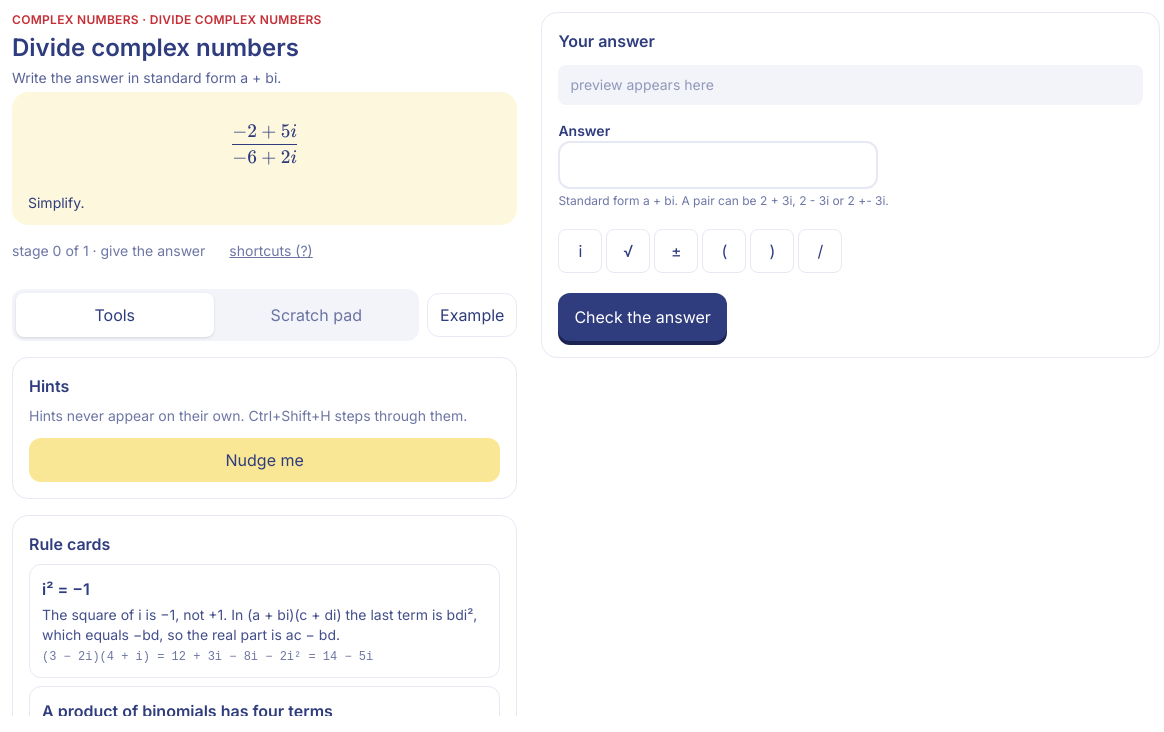
Test case: ComplexNumsFlow cx.divide › an unreadable answer records nothing
The image size is (1164, 732).
Click the button "Check the answer" at (643, 317), box [558,293,727,341]
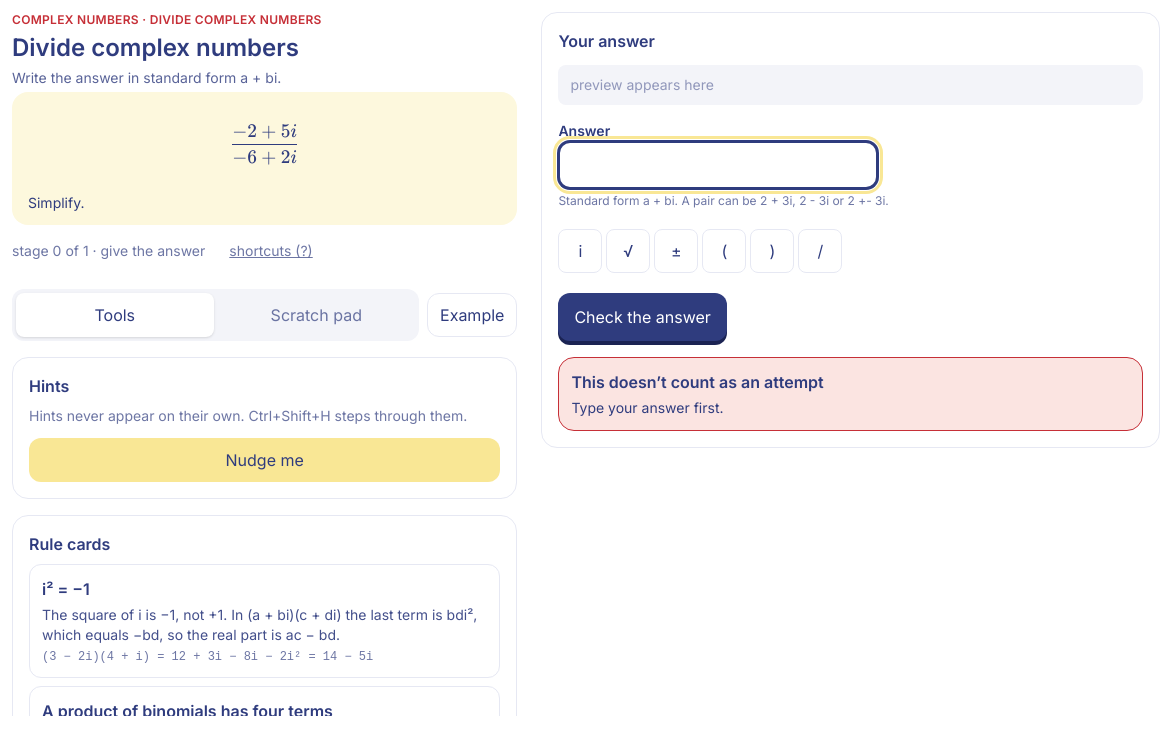
Now the message shows "This doesn’t count as an attempt", box [571,372,824,392]
Type "???" into the field labelled "Answer" at (718, 165), box [558,141,878,189]
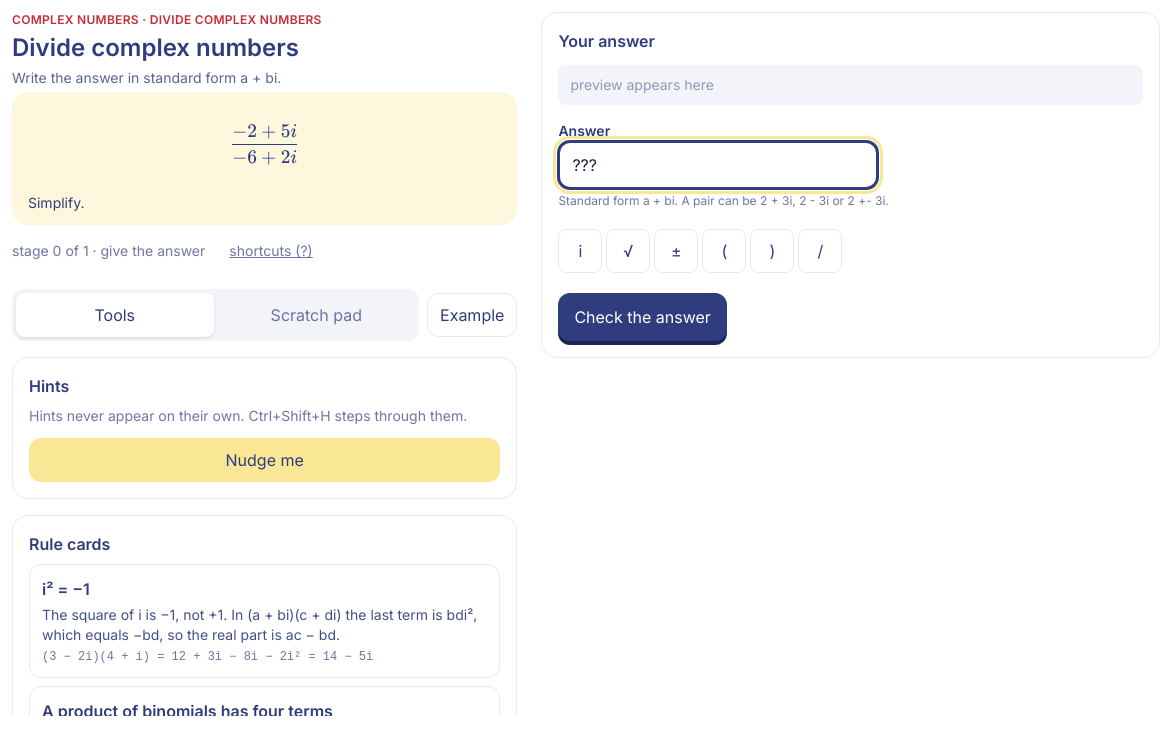
Now the message "This doesn’t count as an attempt Type your answer first." is gone
Click the button "Check the answer" at (643, 317), box [558,293,727,341]
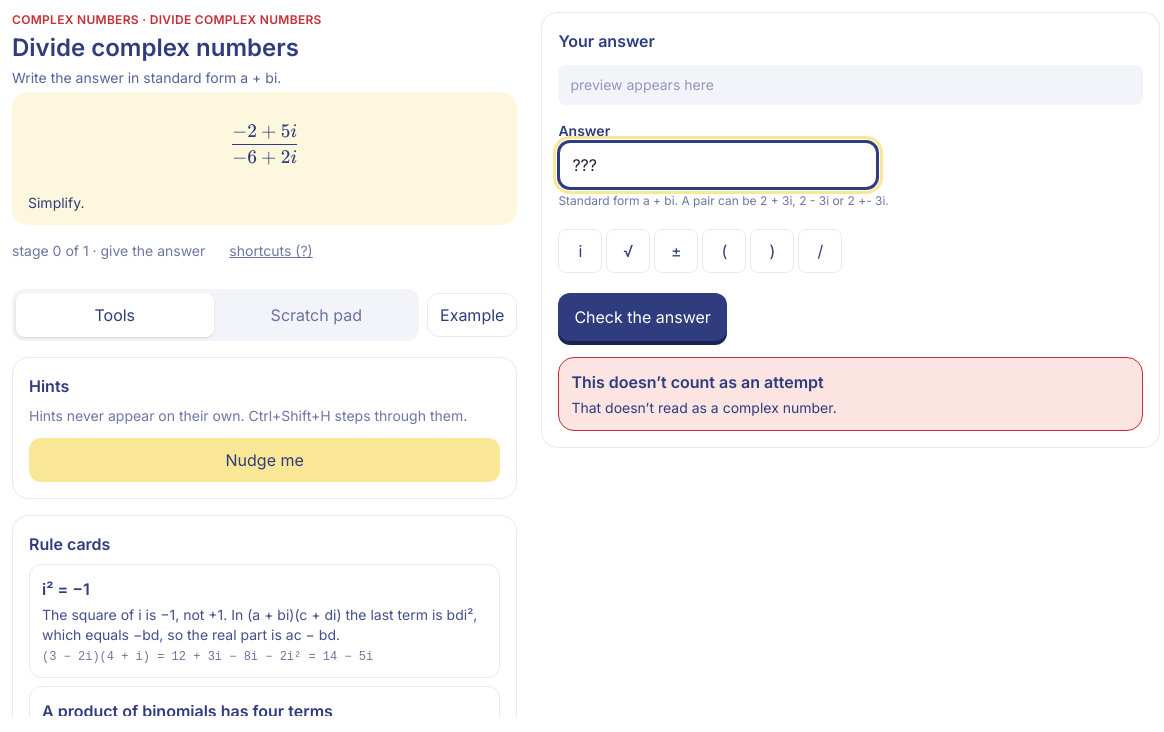
Now the message shows "This doesn’t count as an attempt", box [571,372,824,392]
